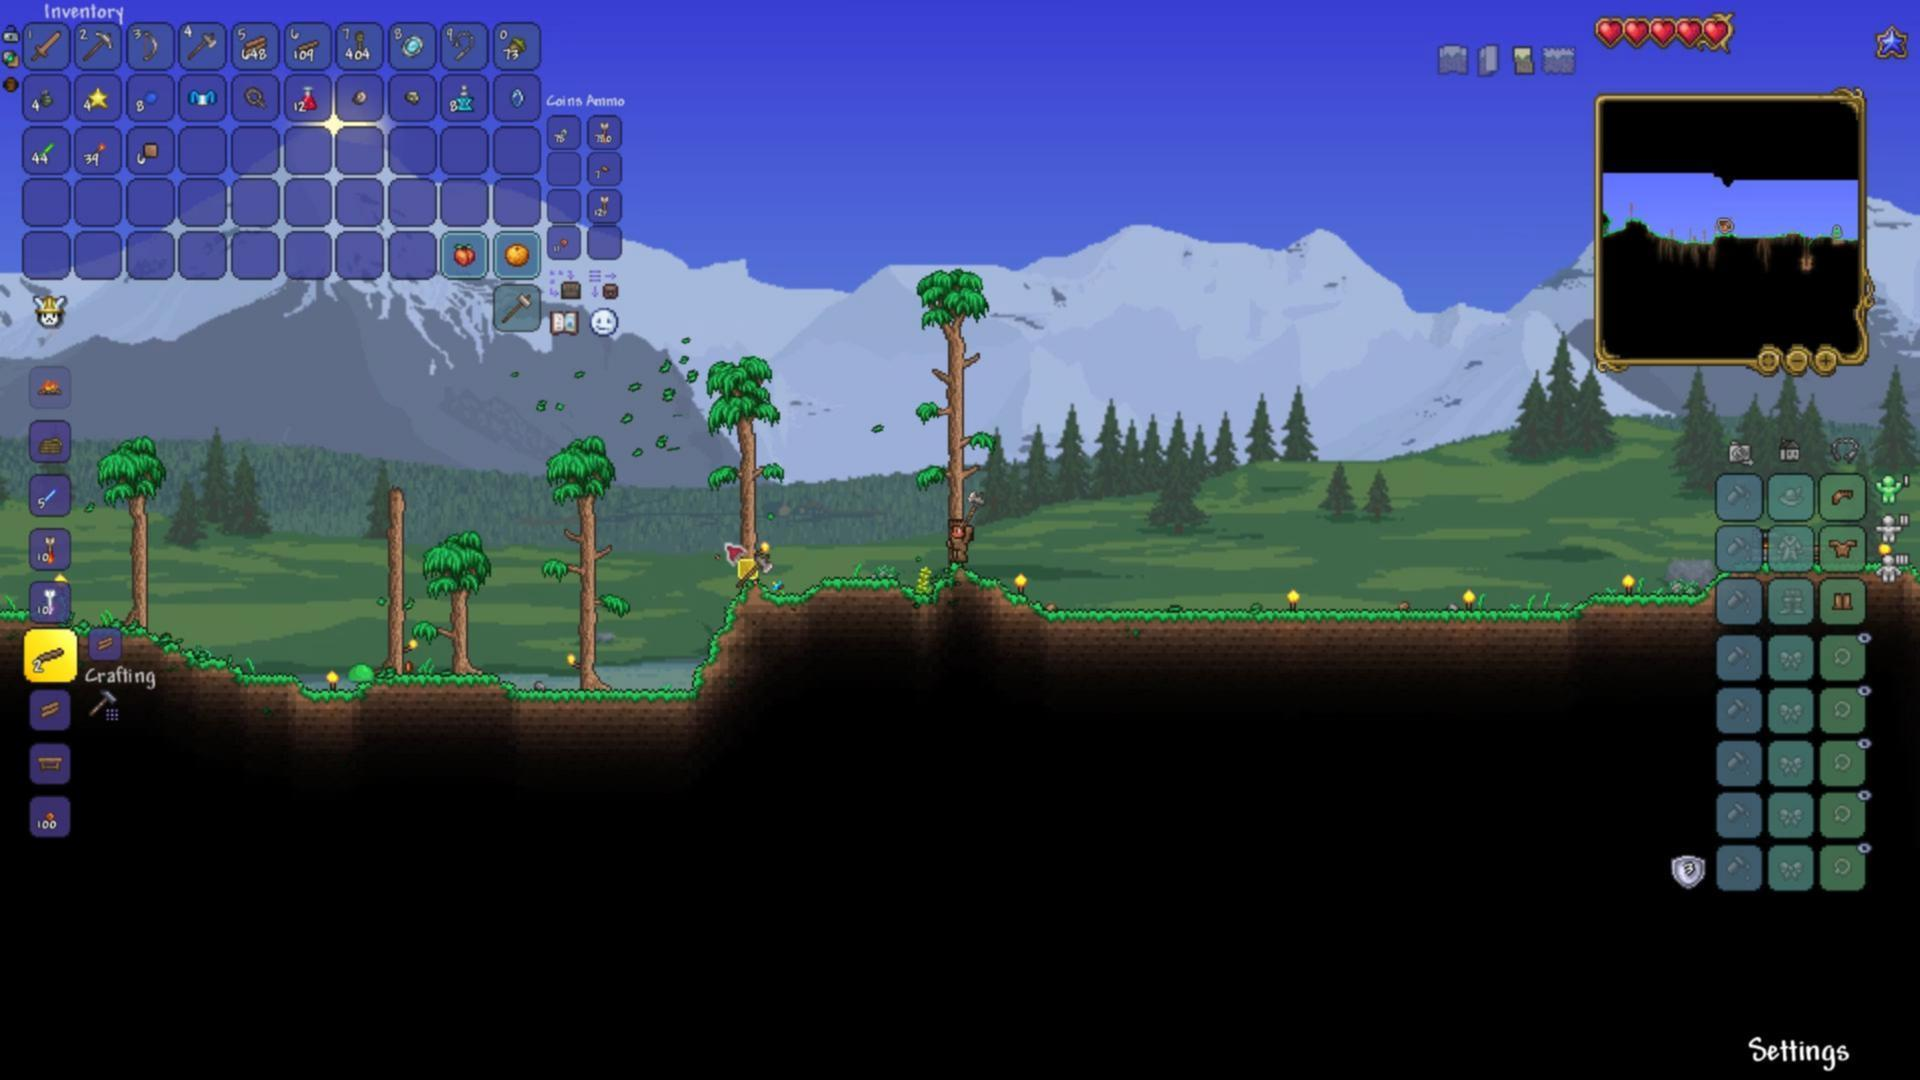grenade: (37, 86, 57, 109)
potion: (298, 80, 323, 113)
recallP: (452, 80, 476, 115)
slime: (343, 658, 377, 683)
star: (86, 80, 109, 109)
